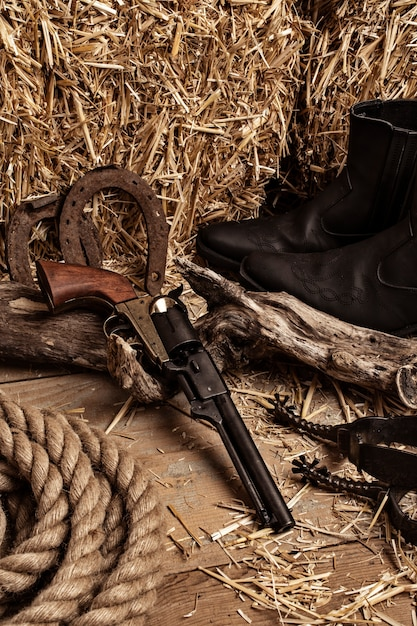gun: (33, 253, 296, 533)
